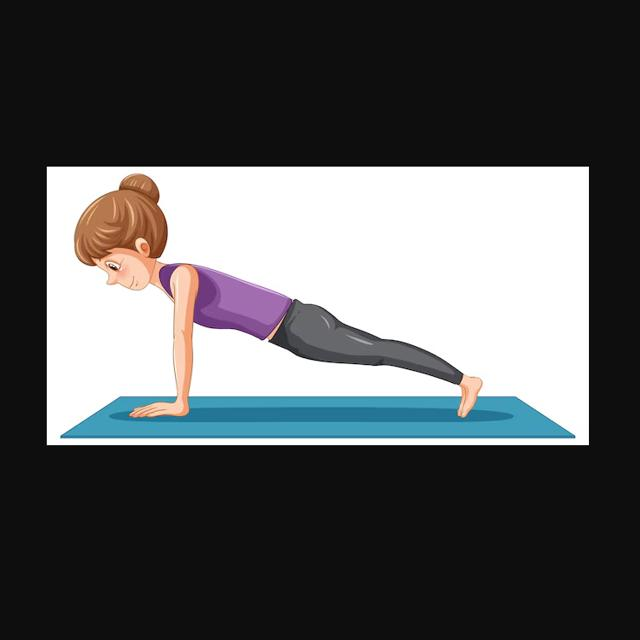Plank_Pose: (68, 175, 495, 427)
